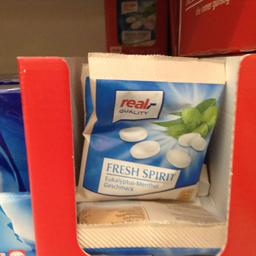candy: (79, 49, 223, 230)
